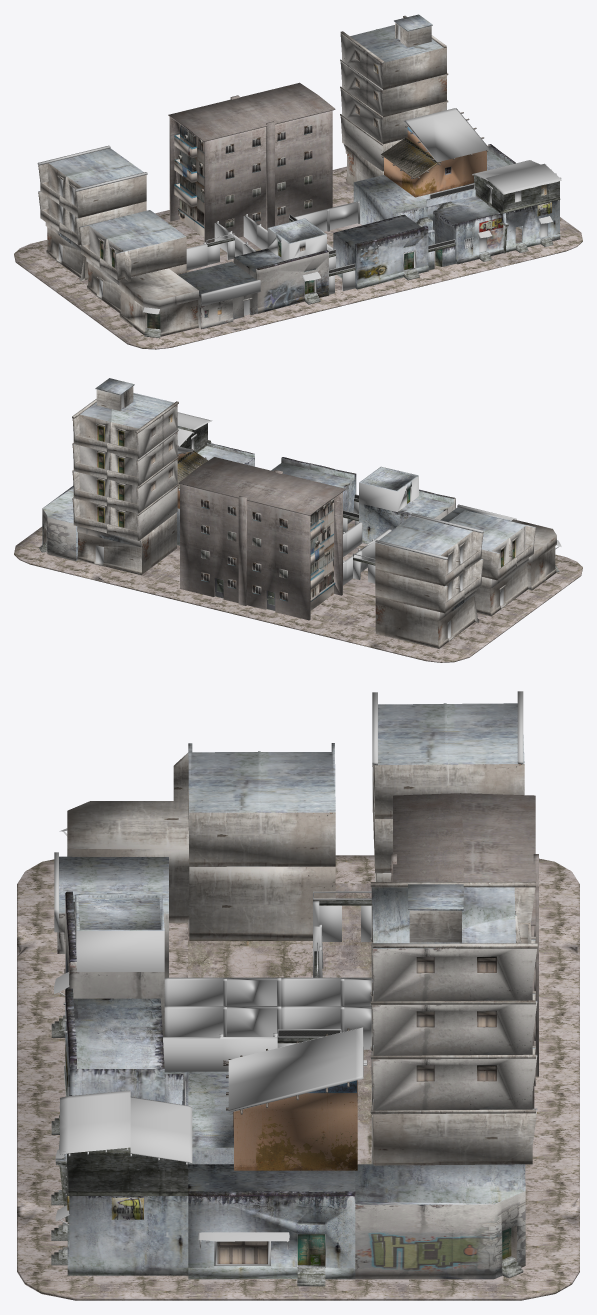
File: CityBlockA.dae
The picture shows the model from 3 angles, top to bottom: view 1: azimuth 30°, elevation 25°; view 2: azimuth 150°, elevation 25°; view 3: azimuth 270°, elevation 25°; orthographic projection. The views are drawn at different scales.
Parts seen in each view (by area): view 1: meshU3D; view 2: meshU3D; view 3: meshU3D.
Boxes of the visible parts, x1,y1,x2,y2 form: meshU3D: [14, 14, 582, 349]; meshU3D: [14, 378, 582, 662]; meshU3D: [17, 691, 579, 1300].
Size of the model in its own units: 2028 by 700 by 1089.
